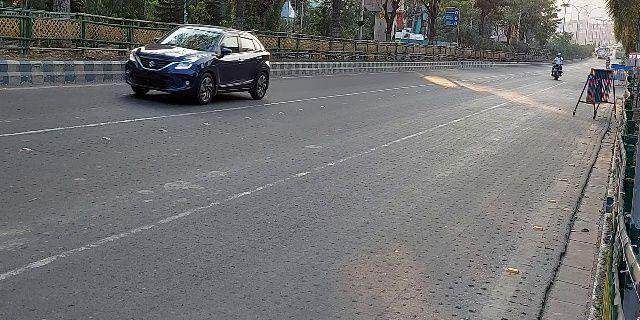Car: (117, 18, 275, 105)
Motorbike: (548, 47, 567, 81)
